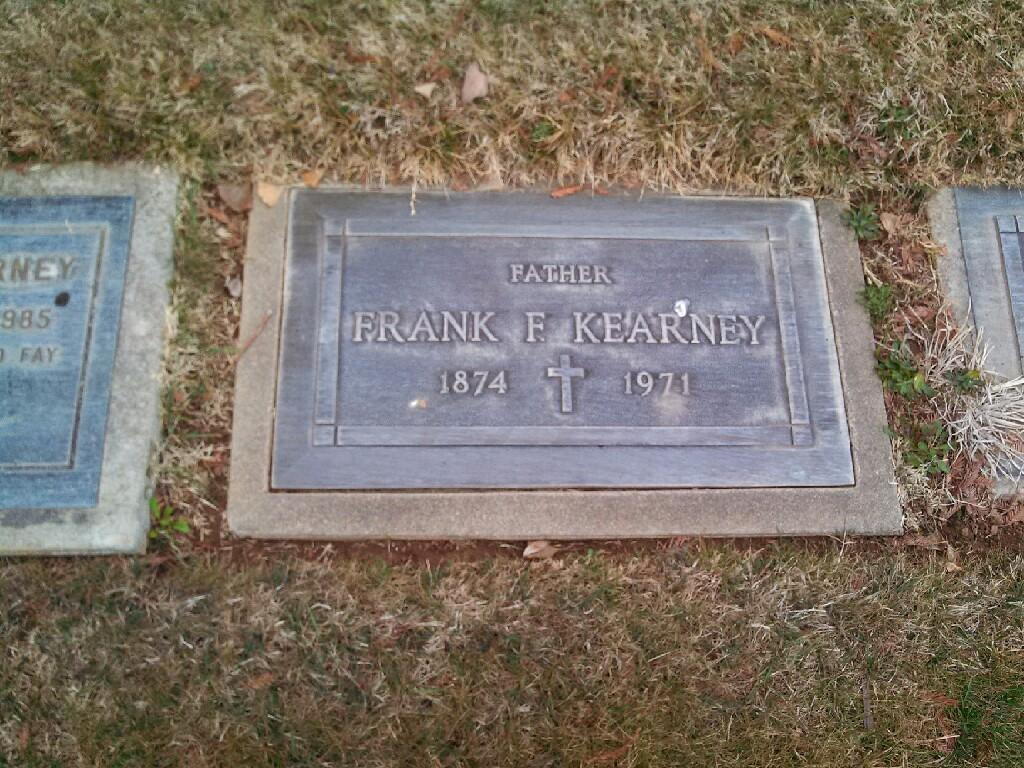flat: (238, 137, 939, 563)
